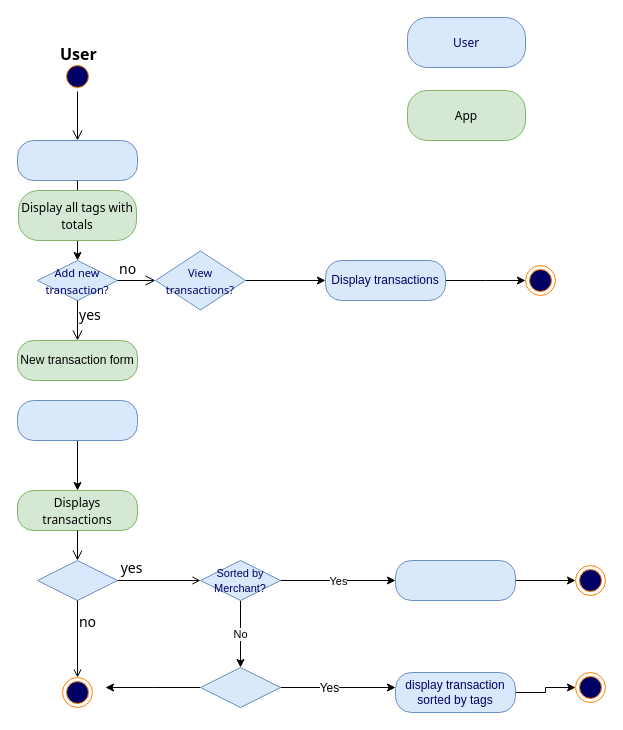
Image size: 623x730. Some labels were removed from this diagram. Here are the shapes that lost their labels. From the top down, the box of each, then its label:
(16, 140, 138, 180): Opens app (assumed to be logged in)
(16, 400, 138, 440): Fills out form
(36, 560, 118, 600): Filter transactions?
(394, 560, 516, 600): Display transactions sorted by merchants
(200, 666, 280, 708): Sorted by tags?
